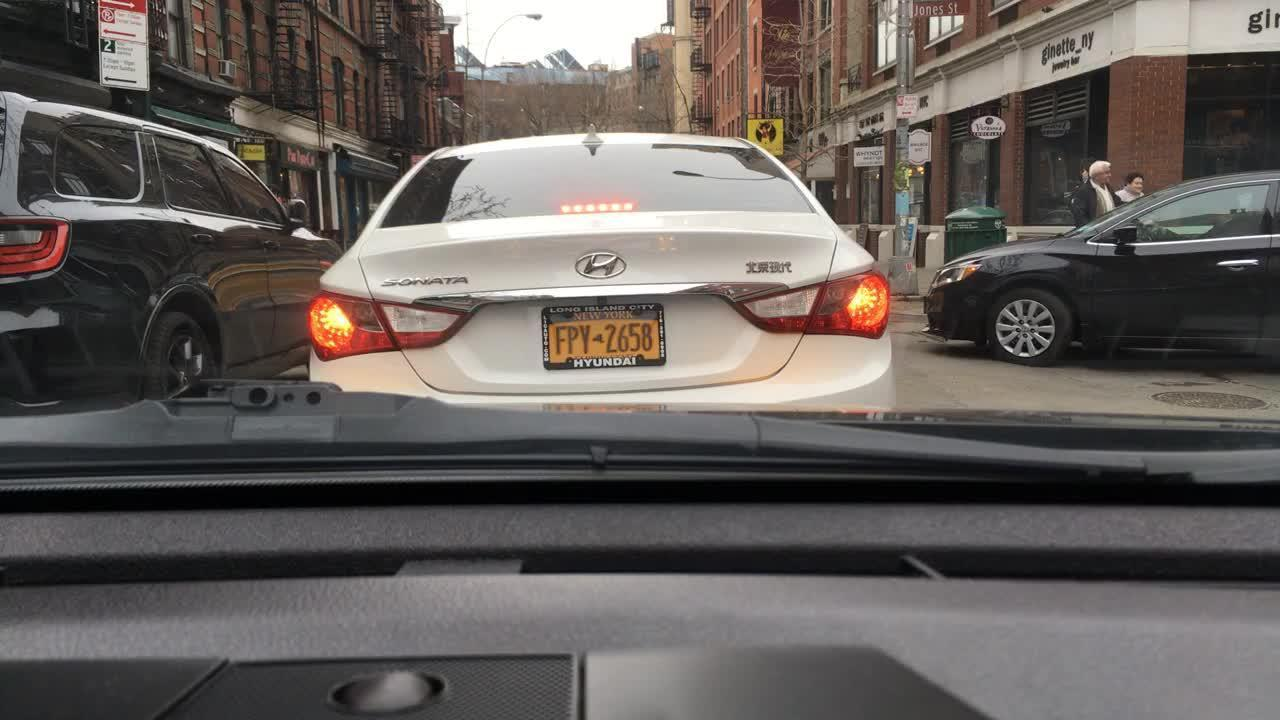Hyundai: (572, 247, 631, 282)
